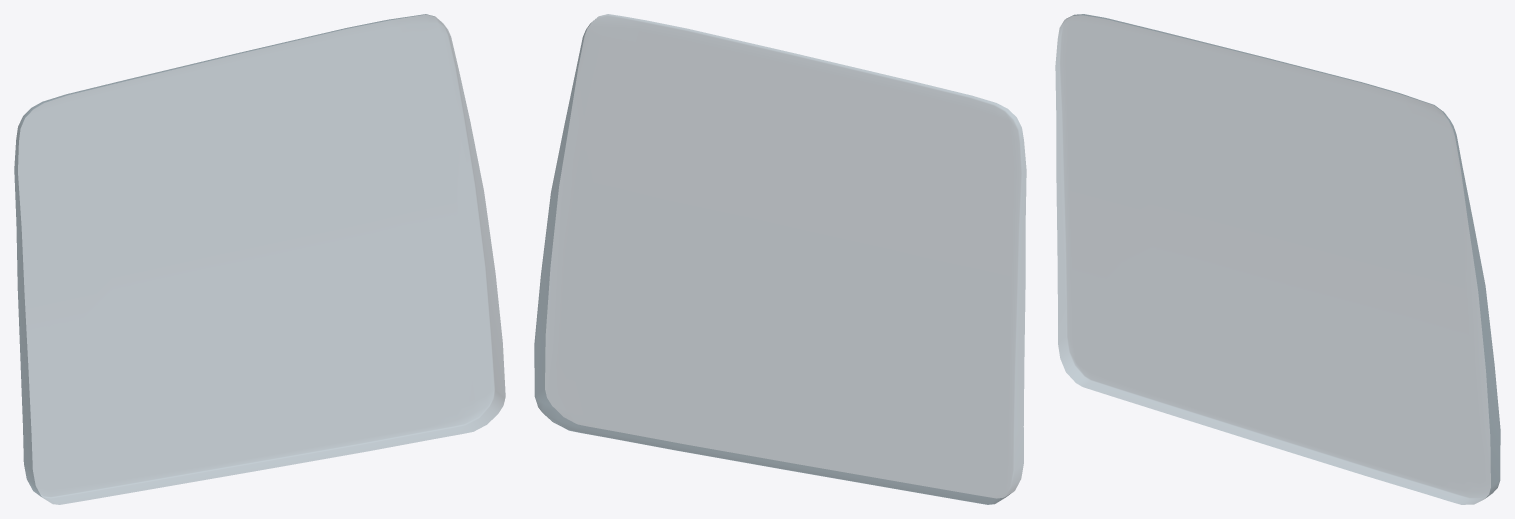
3 views of the same model, side by side, from view 1: azimuth 30°, elevation 25°; view 2: azimuth 150°, elevation 25°; view 3: azimuth 330°, elevation 25° (orthographic). The views are drawn at different scales.
Visible parts, largest first — view 1: SM_EuropeanHGV_Door_FR_Glass_Ext2; view 2: SM_EuropeanHGV_Door_FR_Glass_Ext2; view 3: SM_EuropeanHGV_Door_FR_Glass_Ext2.
Part boxes in pixels (box(x1,y1,x2,y2)): SM_EuropeanHGV_Door_FR_Glass_Ext2: box(14, 14, 505, 504); SM_EuropeanHGV_Door_FR_Glass_Ext2: box(534, 14, 1026, 504); SM_EuropeanHGV_Door_FR_Glass_Ext2: box(1055, 14, 1500, 504).
Bounding box in the file's own units: 0.9689 × 0.8219 × 0.0448.
